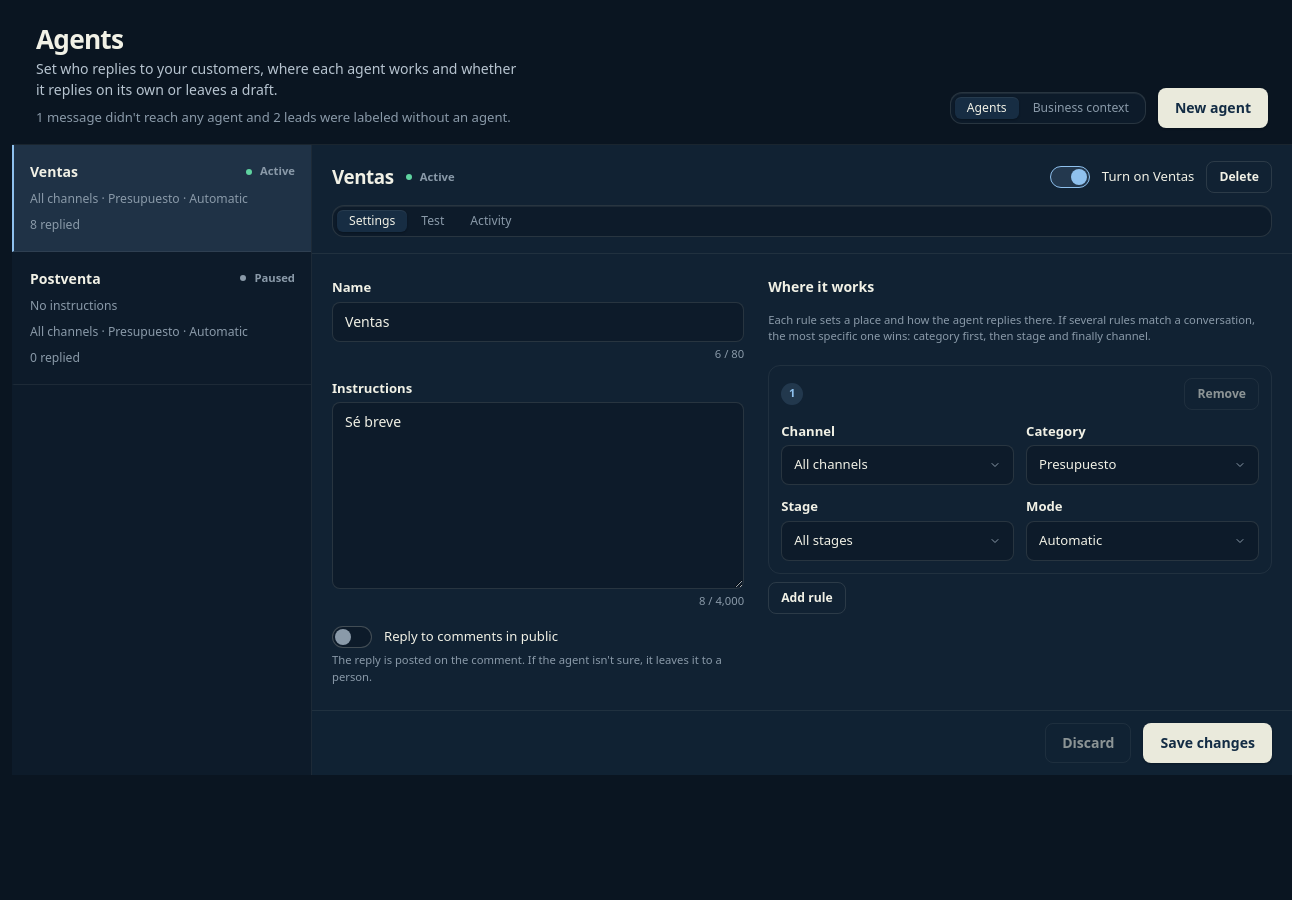
Scenario: Agents › shows the agents and their activity in English
The width and height of the screenshot is (1292, 900).
Check: the heading "Agents" is shown, box [36,21,123,57]
Check: the text "1 message didn't reach any agent and 2 leads were labeled without an agent." is shown, box [36,108,518,128]
Click the button "Ventas" at (162, 198), box [12,145,311,252]
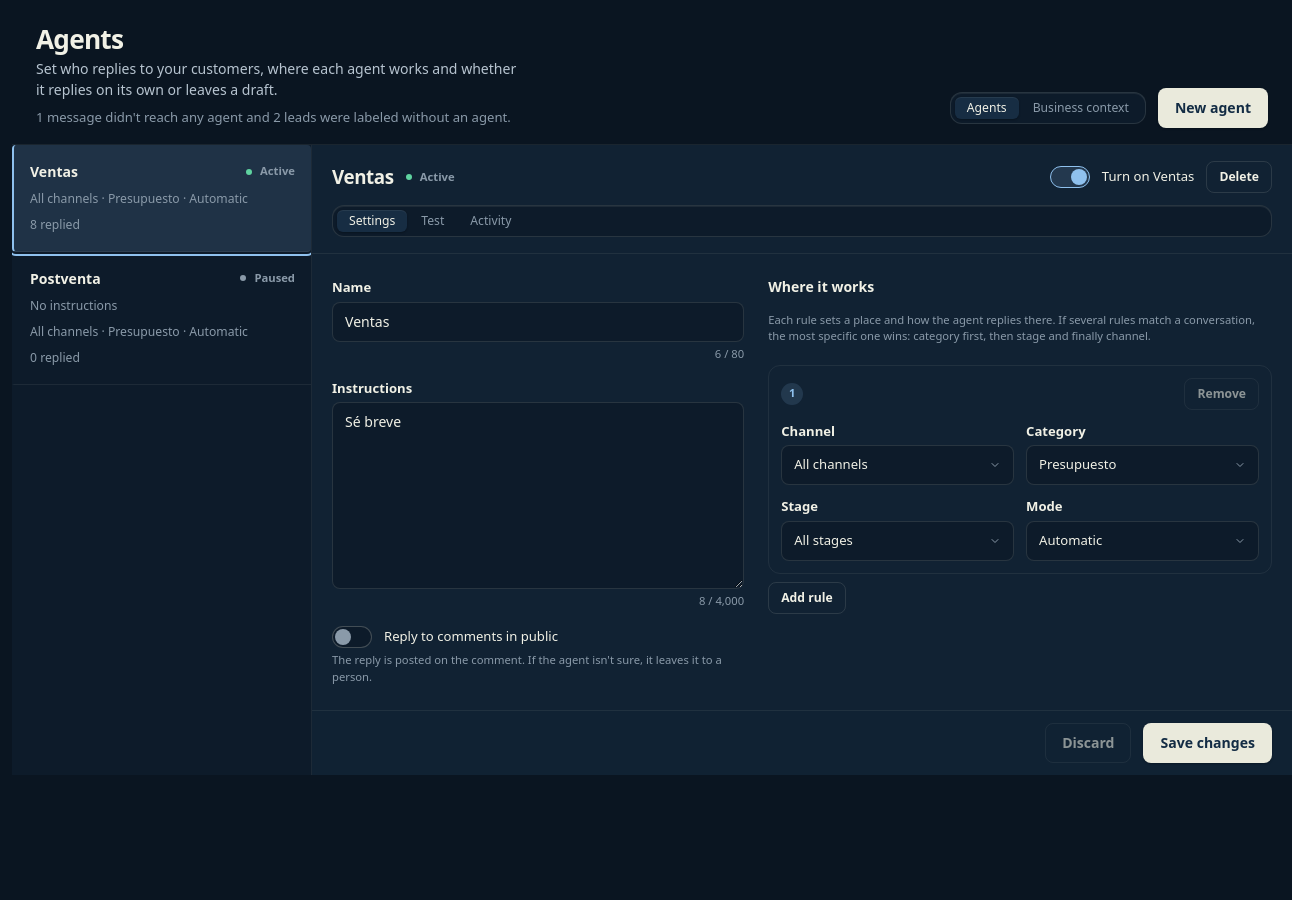
Check: the field labelled "Name 6 / 80" holds "Ventas", box [332,302,744,342]
Check: the heading "Where it works" is shown, box [768,277,874,296]
Click the button "Activity" at (491, 221), box [458,210,523,232]
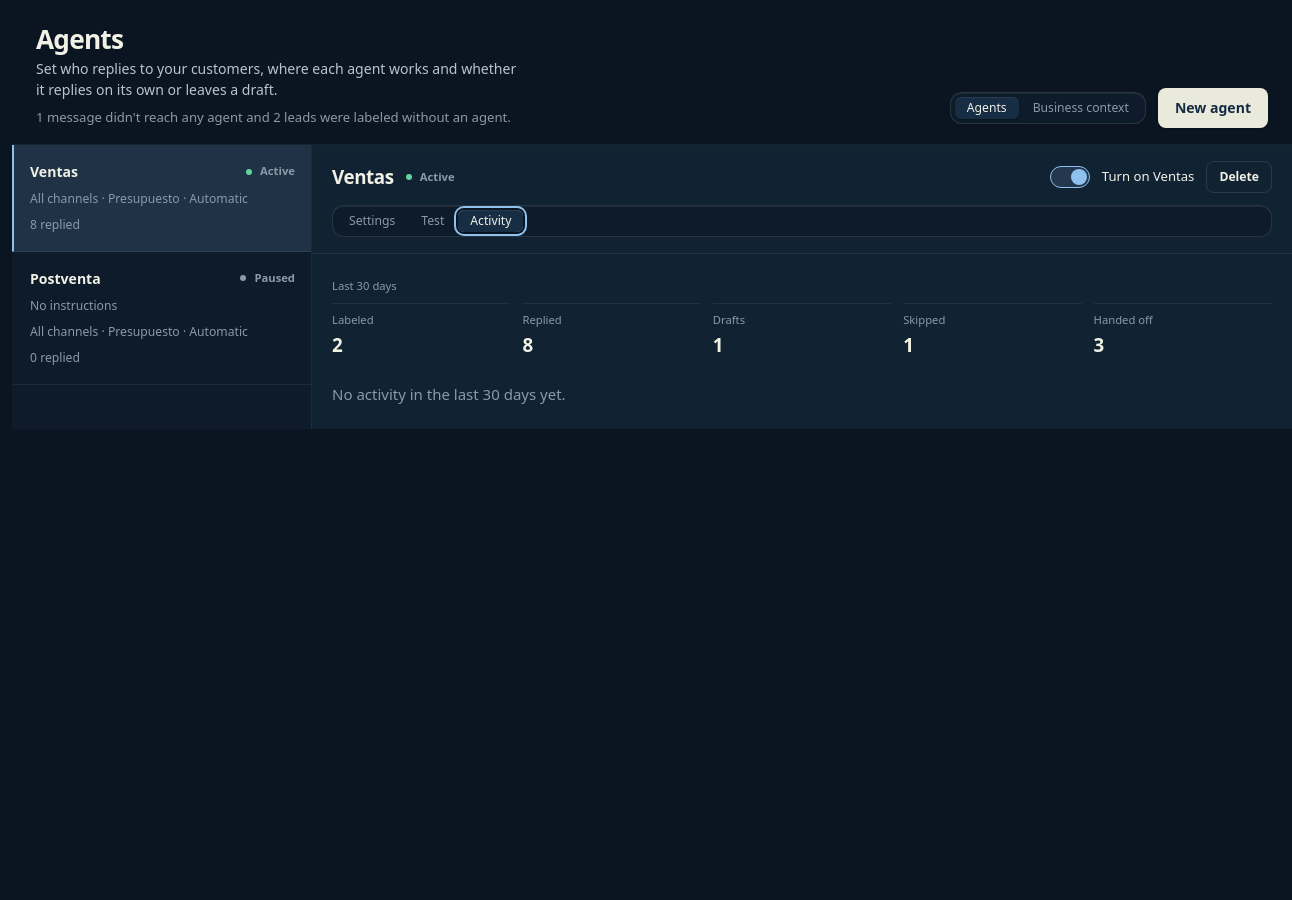
Check: the element named "Ventas activity, last 30 days" shows "Handed off", box [1094,312,1153,327]
Check: the text "No activity in the last 30 days yet." is shown, box [332,384,566,404]
Click the button "Business context" at (1081, 108), box [1021,97,1141,119]
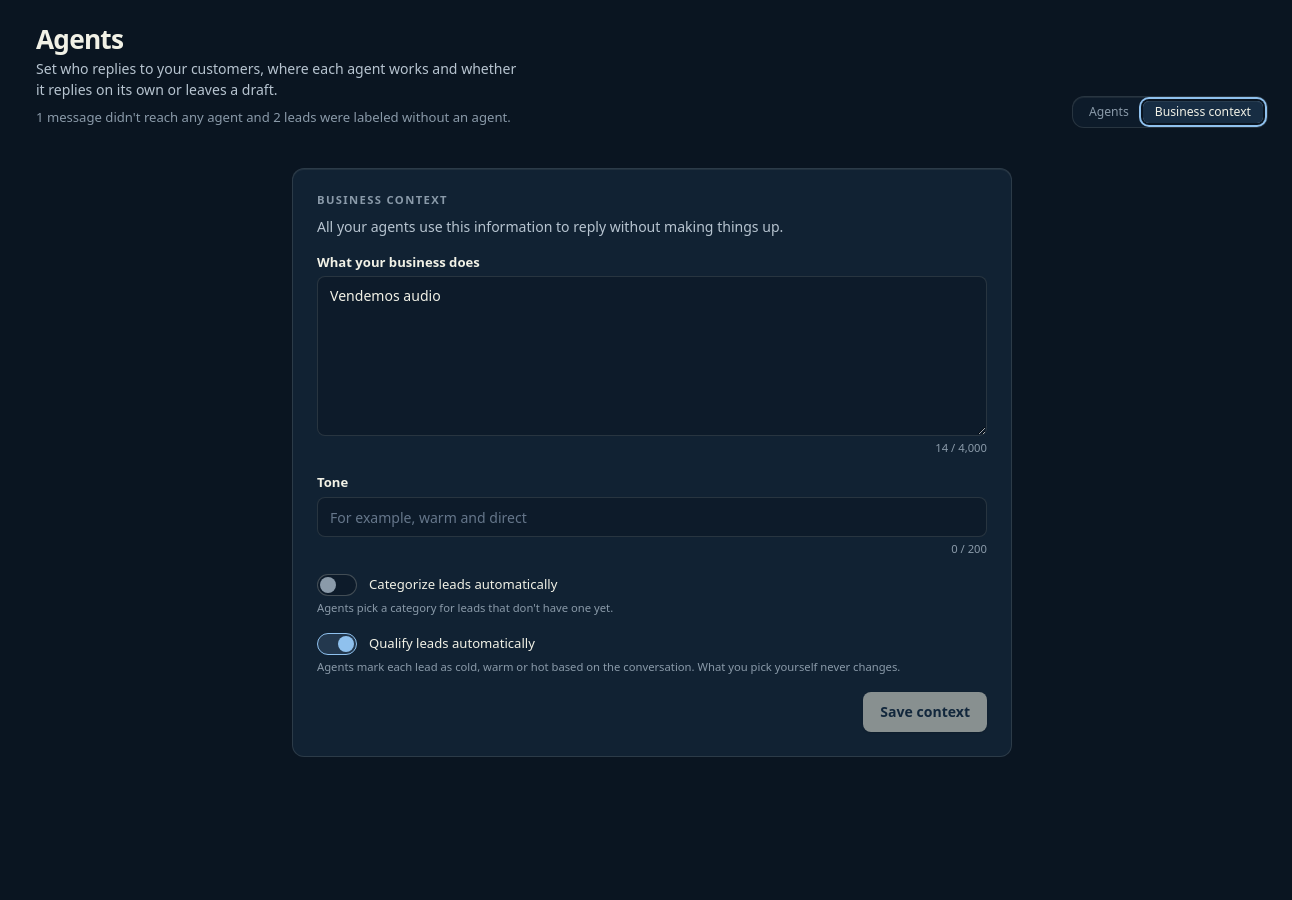
Check: the switch labelled "Qualify leads automatically" is shown, box [317,633,535,655]
Check: the text box labelled "What your business does 14 / 4,000" holds "Vendemos audio", box [317,276,987,436]
Check: the button "Save context" is disabled, box [863,692,987,732]
